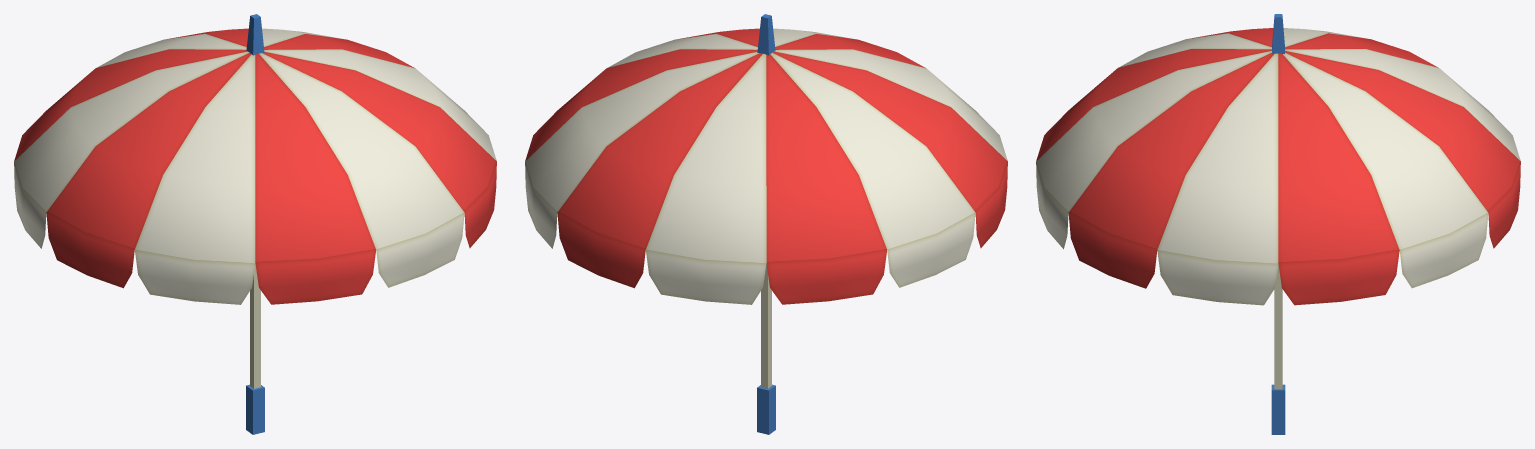
The model's file is bg_parasol.FBX.
The picture shows the model from 3 angles, left to right: view 1: azimuth 30°, elevation 25°; view 2: azimuth 150°, elevation 25°; view 3: azimuth 270°, elevation 25°; orthographic projection.
Parts seen in each view (by area): view 1: bg_parasol; view 2: bg_parasol; view 3: bg_parasol.
Boxes of the visible parts, <box> form: bg_parasol: <box>14,14,496,434</box>; bg_parasol: <box>525,14,1007,434</box>; bg_parasol: <box>1036,14,1520,434</box>.
Size of the model in its own units: 27.6 by 26.15 by 27.6.
